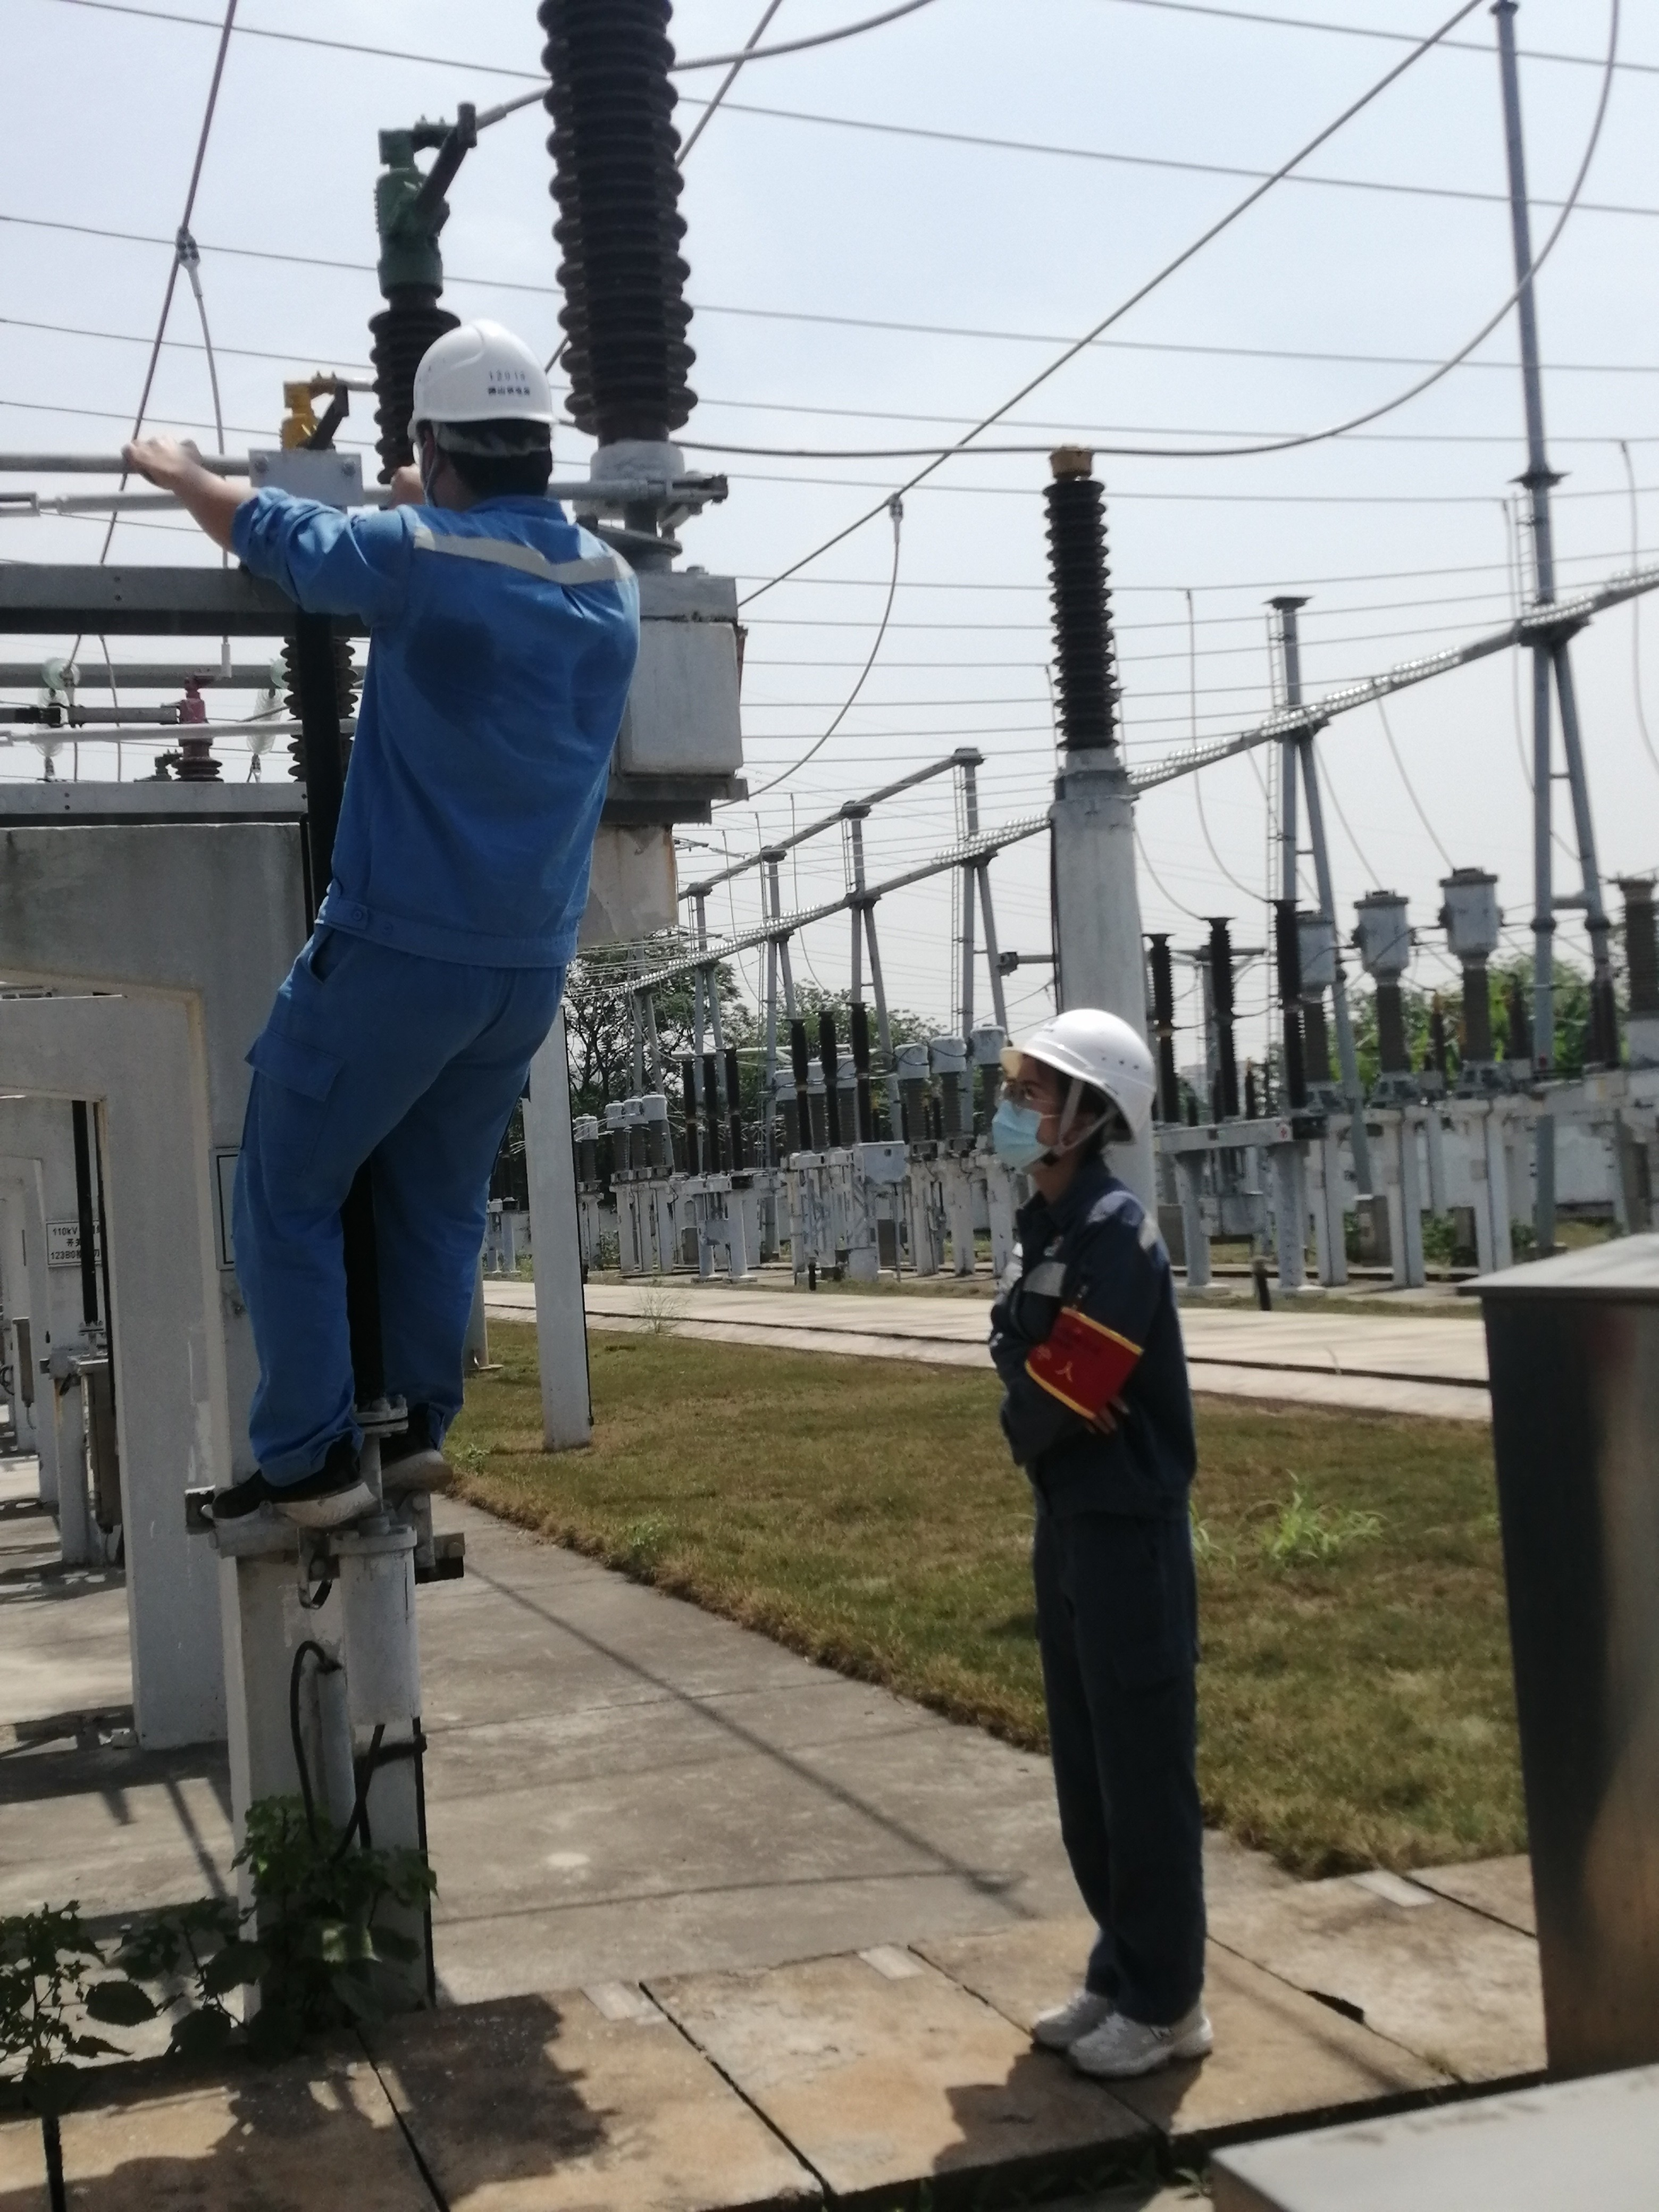downsuit: (254, 989, 572, 1472), (1039, 1562, 1222, 2000)
upsuit: (254, 496, 643, 960), (976, 1170, 1215, 1531)
wrongtop: (129, 434, 295, 571)
